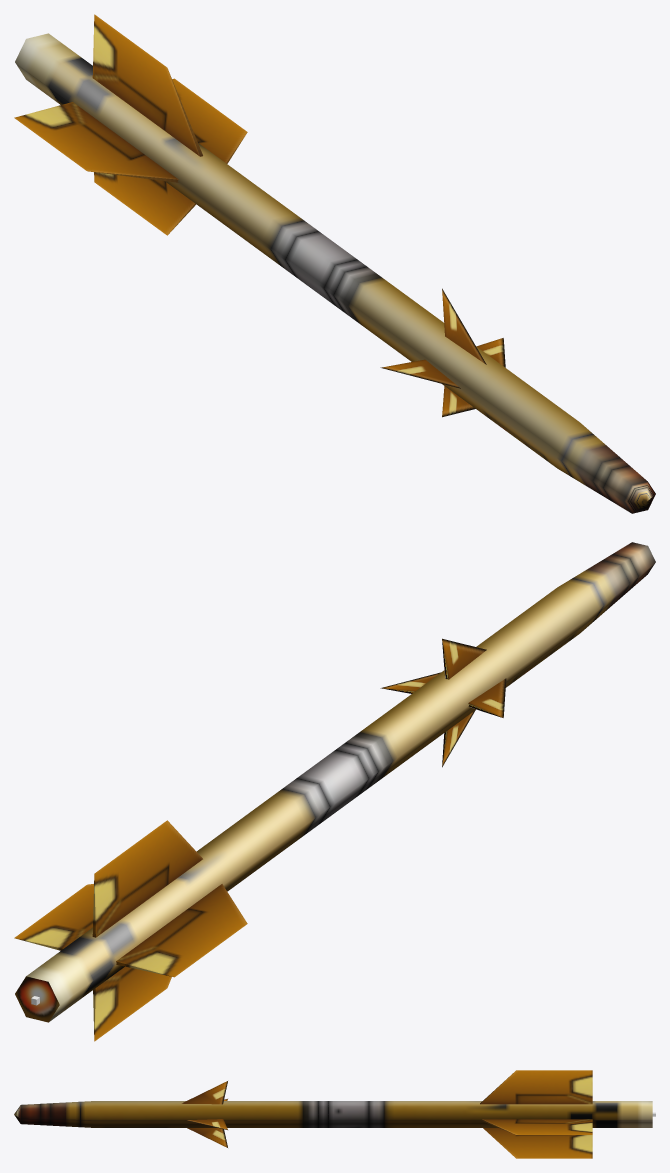
Rendered from mis06.obj.
The picture shows the model from 3 angles, top to bottom: view 1: azimuth 30°, elevation 25°; view 2: azimuth 150°, elevation 25°; view 3: azimuth 270°, elevation 25°; orthographic projection. The views are drawn at different scales.
Visible parts, largest first — view 1: frm-main_body, frm-rear_fin5, frm-rear_fin6, frm-rear_fin7, frm-rear_fin5_1, frm-frontfin4, frm-frontfin5; view 2: frm-main_body, frm-rear_fin5, frm-rear_fin6, frm-rear_fin7, frm-rear_fin5_1, frm-frontfin4, frm-frontfin5; view 3: frm-main_body, frm-rear_fin5, frm-rear_fin7, frm-rear_fin5_1, frm-frontfin4, frm-frontfin7, frm-frontfin4_1.
Part boxes in pixels (x1,y1,x2,y2): frm-main_body: [15, 33, 655, 513]; frm-rear_fin5: [92, 14, 202, 156]; frm-rear_fin6: [14, 102, 178, 182]; frm-rear_fin7: [94, 172, 196, 235]; frm-rear_fin5_1: [172, 78, 247, 163]; frm-frontfin4: [442, 288, 486, 364]; frm-frontfin5: [380, 359, 460, 388]; frm-main_body: [15, 542, 655, 1022]; frm-rear_fin5: [92, 820, 202, 937]; frm-rear_fin6: [116, 884, 247, 977]; frm-rear_fin7: [93, 966, 171, 1041]; frm-rear_fin5_1: [14, 884, 93, 950]; frm-frontfin4: [442, 638, 486, 679]; frm-frontfin5: [468, 678, 506, 717]; frm-main_body: [14, 1101, 652, 1127]; frm-rear_fin5: [480, 1070, 592, 1104]; frm-rear_fin7: [483, 1128, 592, 1158]; frm-rear_fin5_1: [481, 1119, 592, 1134]; frm-frontfin4: [182, 1081, 227, 1104]; frm-frontfin7: [187, 1128, 227, 1147]; frm-frontfin4_1: [185, 1119, 227, 1129].
Bounding box in the file's own units: 1.73 × 1.73 × 11.41.
